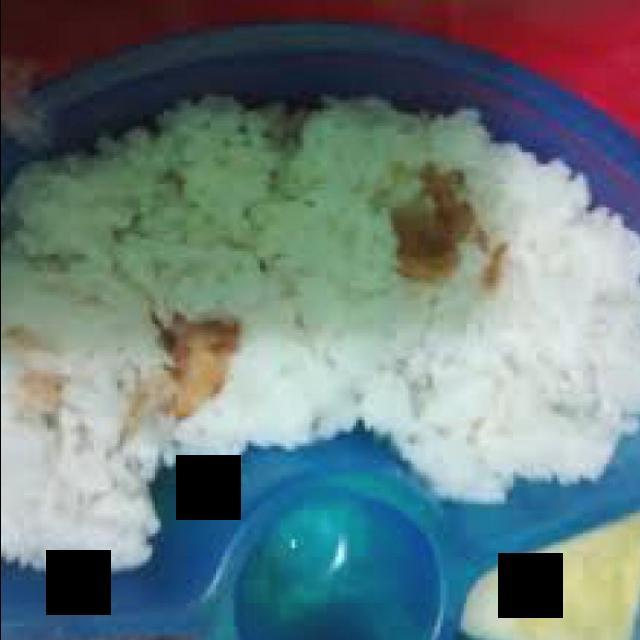rice: (0, 96, 640, 572)
